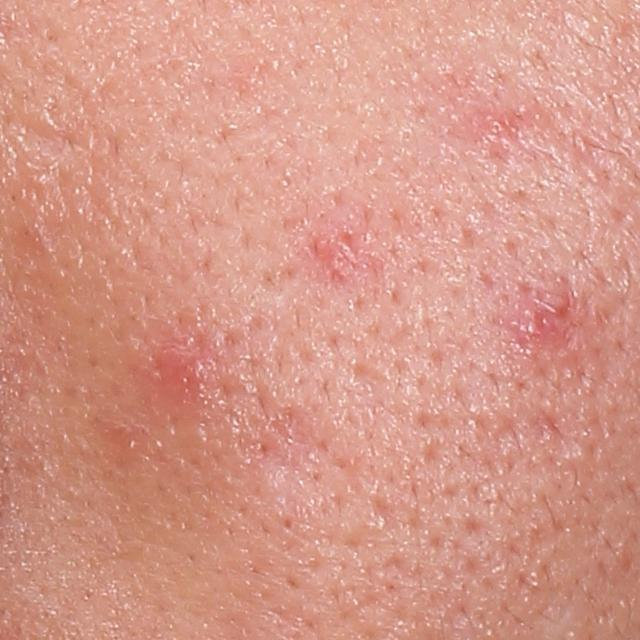papule: (515, 274, 581, 351), (151, 340, 214, 405), (313, 222, 357, 279)
